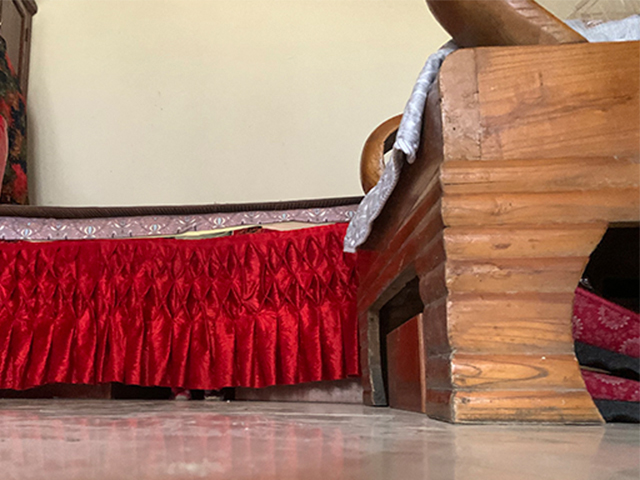bed: (1, 196, 362, 404)
sofa: (344, 1, 640, 425)
